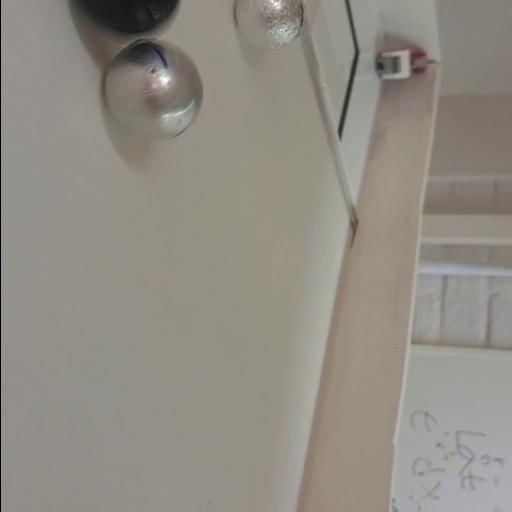alive: (102, 40, 202, 140), (234, 0, 302, 50)
dead: (73, 0, 182, 36)
